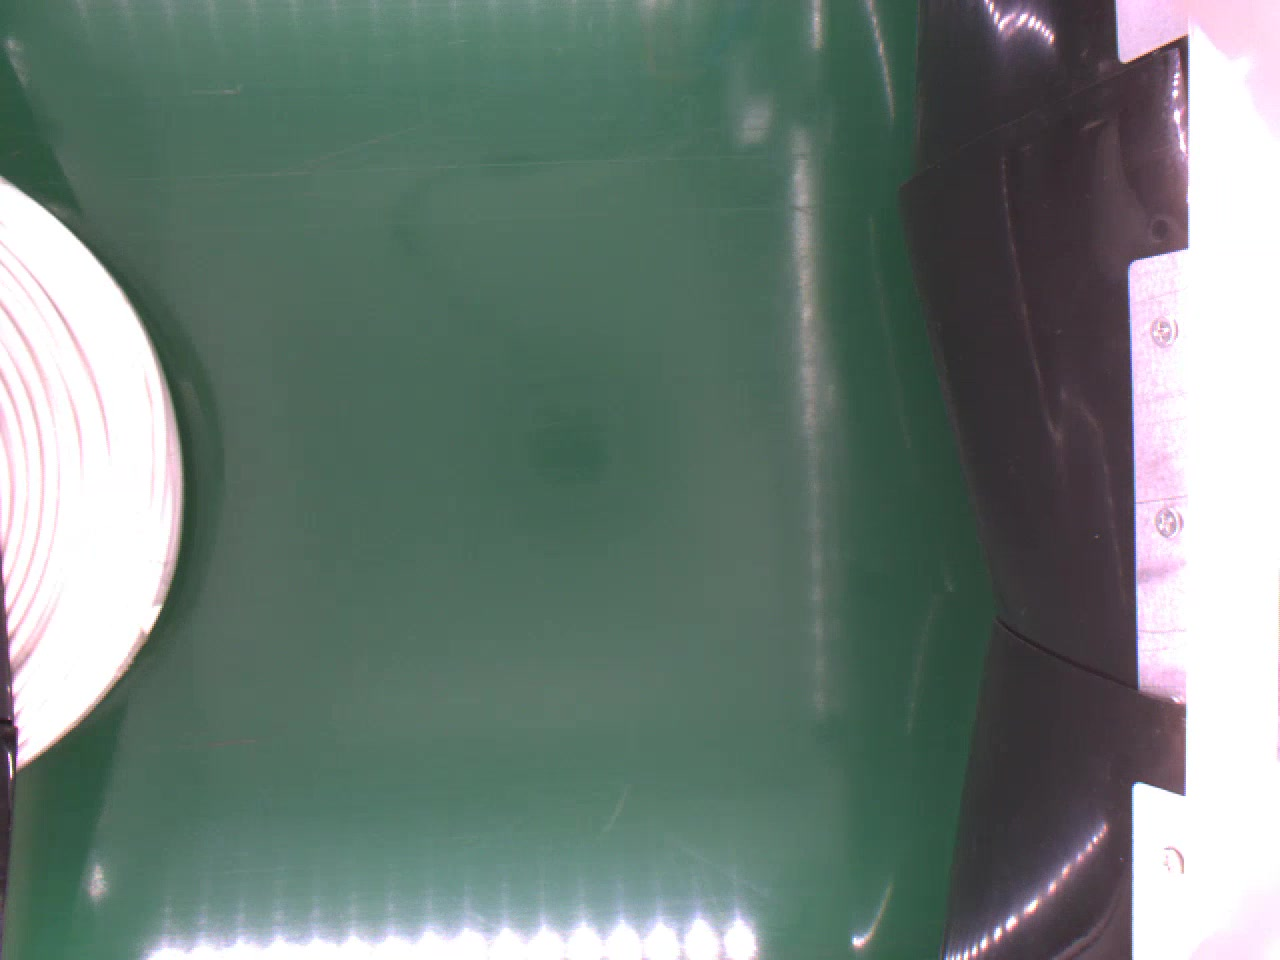white: (0, 173, 188, 771)
